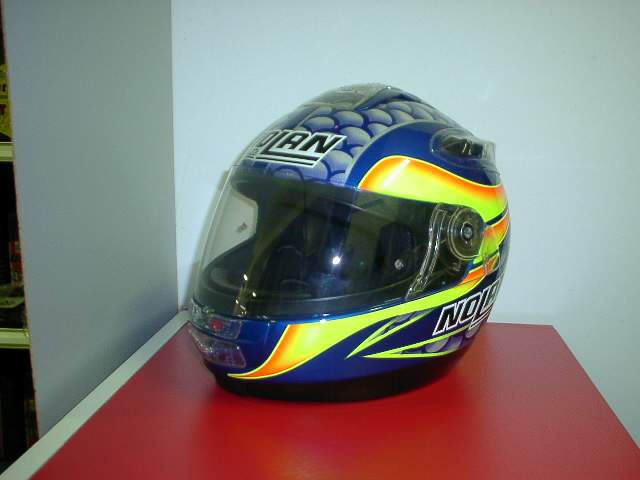helmet: (214, 113, 521, 375)
